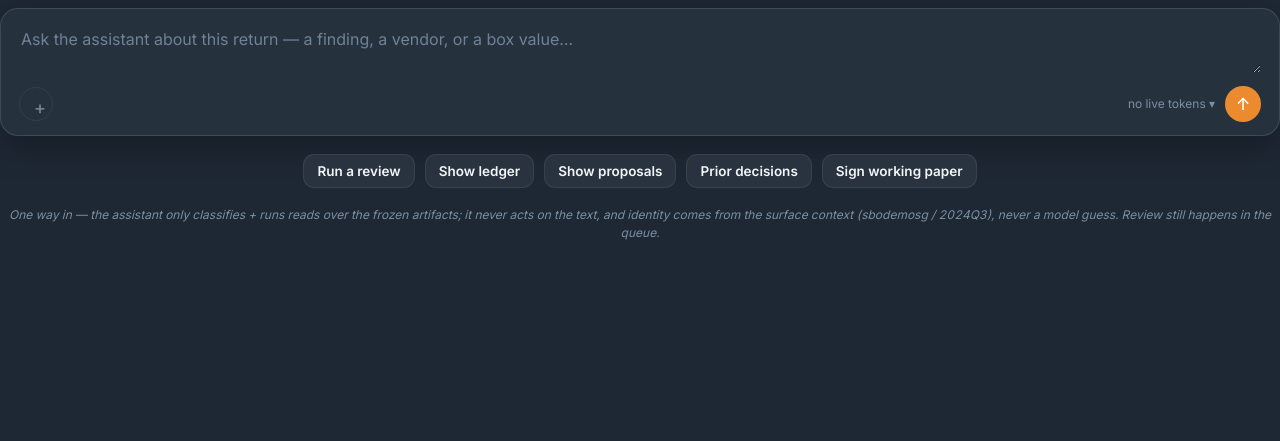
Test case: CommandBar — styled result card (T6.3 Slice 4) › a `needs_clarification` renders an amber 'needs clarification' pill + the missing list
The image size is (1280, 441).
Replace the text in the text box with placeholder "Ask the assistant" with "show prior decisions" at coordinates (640, 50), box [19,27,1261,73]
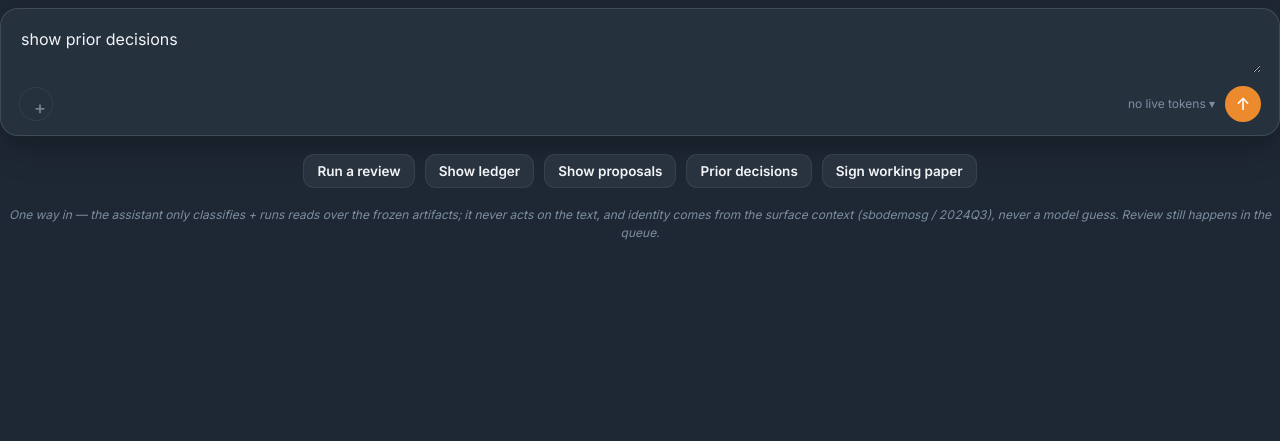
Click the button named "Ask".
click(1243, 104)  # box [1225,86,1261,122]
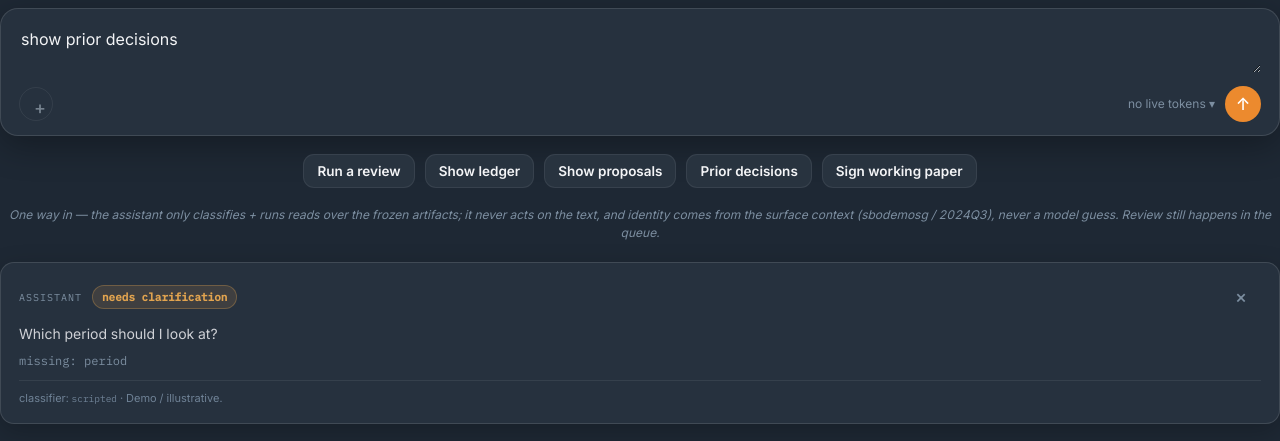
Check: the text "needs clarification" is shown, box [92,285,237,309]
Check: the text "Which period should I look at?" is shown, box [19,325,218,342]
Check: the text "missing: period" is shown, box [19,353,127,368]
